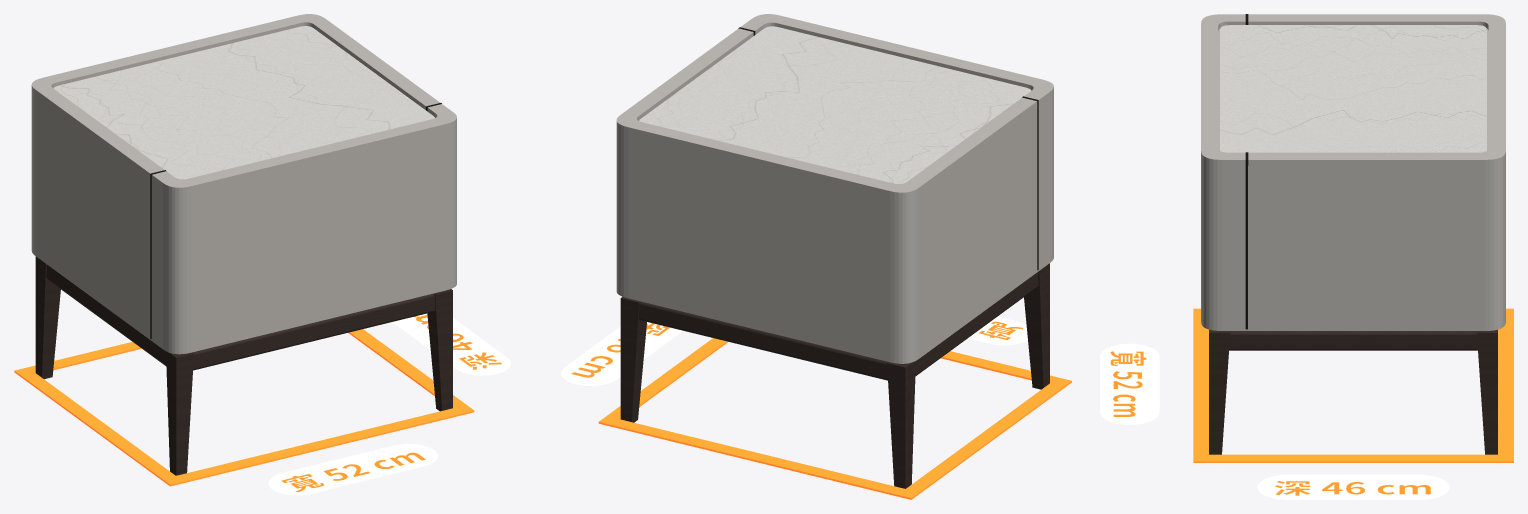
File: ownTawuBox-f.glb
The picture shows the model from 3 angles, left to right: view 1: azimuth 30°, elevation 25°; view 2: azimuth 150°, elevation 25°; view 3: azimuth 270°, elevation 25°; orthographic projection. The views are drawn at different scales.
Parts seen in each view (by area): view 1: object 1, object 3, ar-frame, object 2, object 11, object 16, object 14, object 13, object 10; view 2: object 1, object 3, object 2, ar-frame, object 9, object 13, object 17, object 16, object 10; view 3: object 1, object 3, ar-frame, object 2, object 12, object 14, object 17, object 6.
Boxes of the visible parts, box(x1,y1,x2,y2) form: object 1: box(31, 90, 456, 354); object 3: box(53, 26, 434, 179); ar-frame: box(14, 313, 510, 495); object 2: box(31, 14, 456, 192); object 11: box(193, 293, 435, 370); object 16: box(166, 351, 193, 475); object 14: box(427, 289, 452, 411); object 13: box(35, 256, 60, 379); object 10: box(46, 265, 166, 365); object 1: box(616, 93, 1053, 363); object 3: box(639, 26, 1031, 183); object 2: box(616, 14, 1053, 197); ar-frame: box(561, 316, 1071, 499); object 9: box(638, 301, 887, 380); object 13: box(887, 361, 915, 488); object 17: box(620, 296, 646, 422); object 16: box(1024, 263, 1049, 389); object 10: box(915, 272, 1038, 376); object 1: box(1201, 29, 1505, 330); object 3: box(1220, 25, 1486, 152); ar-frame: box(1100, 308, 1513, 499); object 2: box(1201, 14, 1505, 165); object 12: box(1229, 331, 1477, 350); object 14: box(1209, 329, 1230, 454); object 17: box(1476, 329, 1497, 454); object 6: box(1245, 165, 1247, 329).
Size of the model in its own units: 0.6855 by 0.5003 by 0.6245.
Materials: 7 (4 with a texture image).
